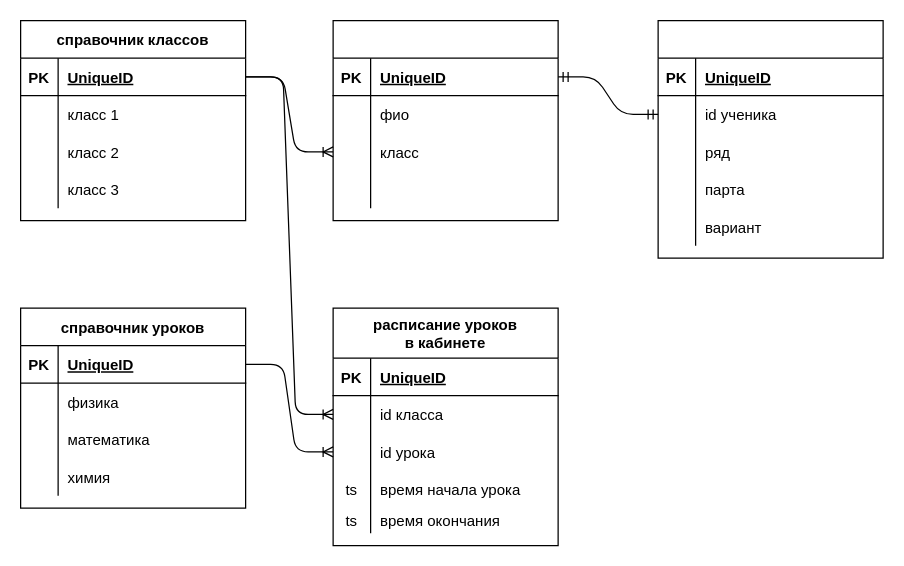
Some shapes in this 904 by 566 pixel diagram are drawn without their labels. The box of each missing label's shape, as (x1, y1, x2, y2) in pixels:
места в кабинете: (657, 19, 883, 258)
ученики: (332, 19, 558, 221)
